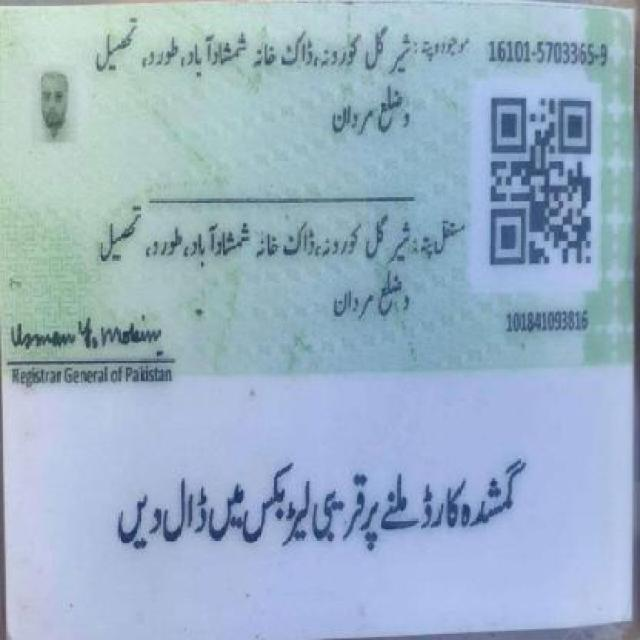Back: (4, 8, 630, 612)
